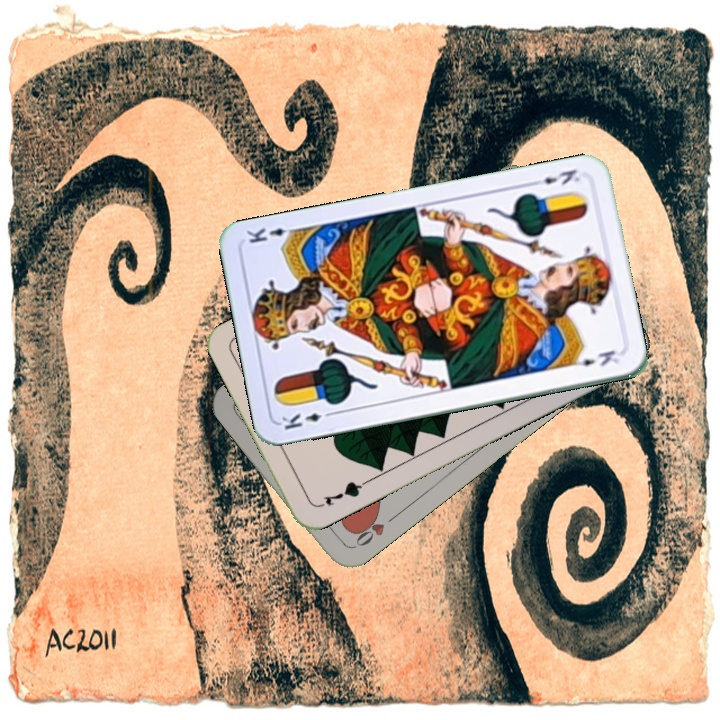EK: (277, 407, 337, 433), (527, 165, 583, 189)
G7: (314, 477, 369, 510)
HO: (348, 509, 399, 551)
